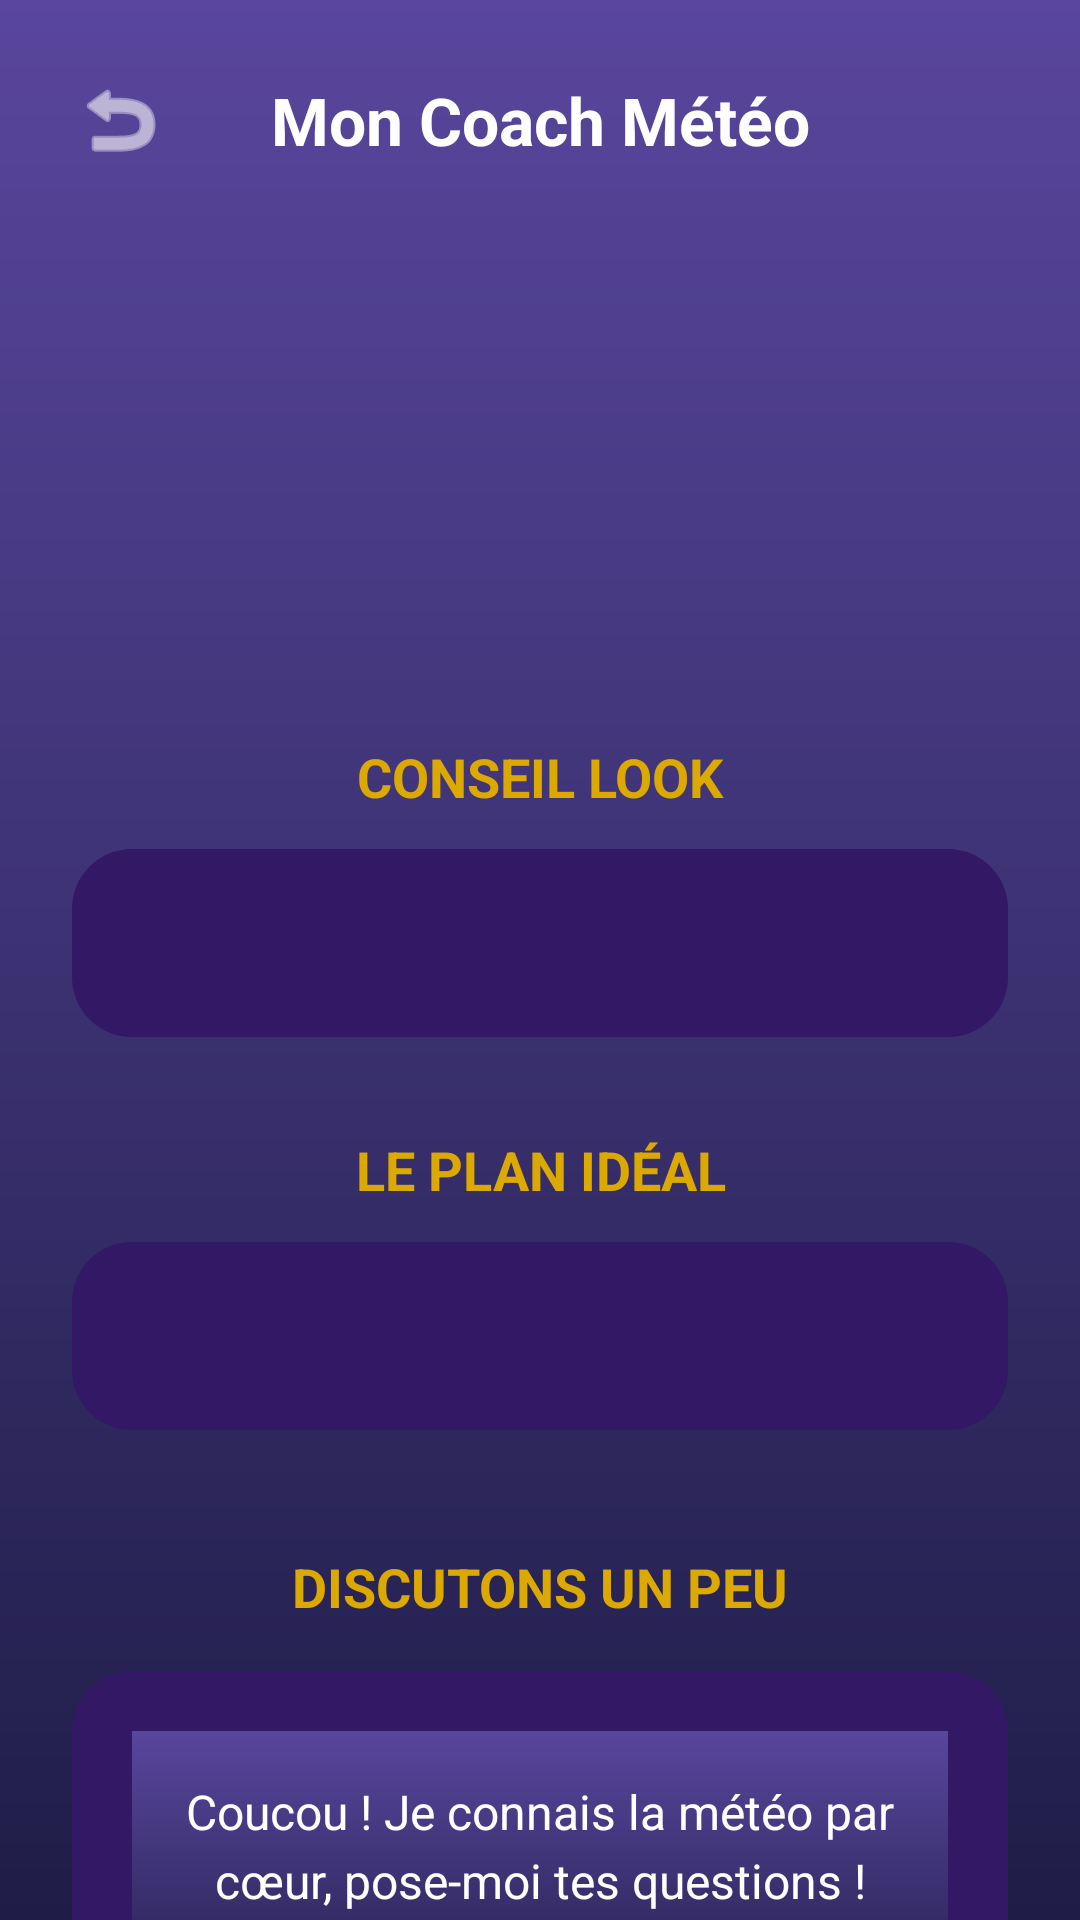

Named icons in this screenshot (1080*1920) and their bounding boxes, (x1, y1, x2, y2):
Retour: (87, 89, 156, 152)
